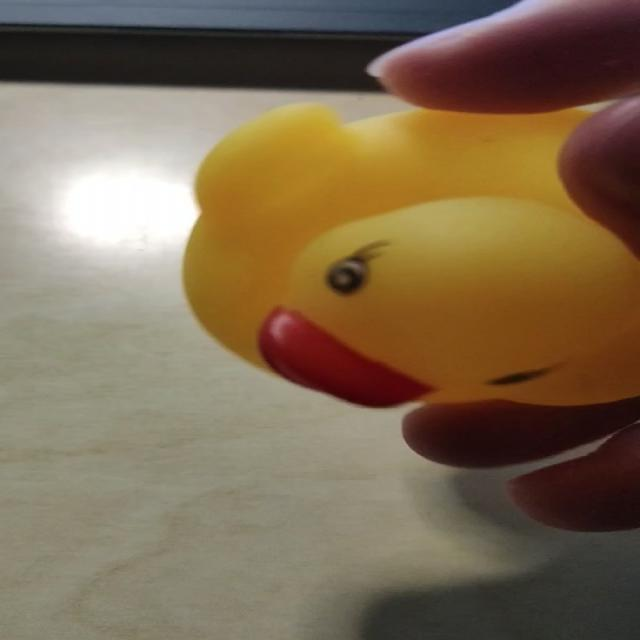rubber-duck: (183, 104, 638, 404)
